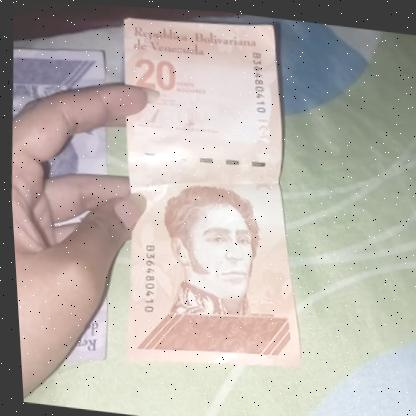twenty-front-vef: (102, 9, 320, 381)
